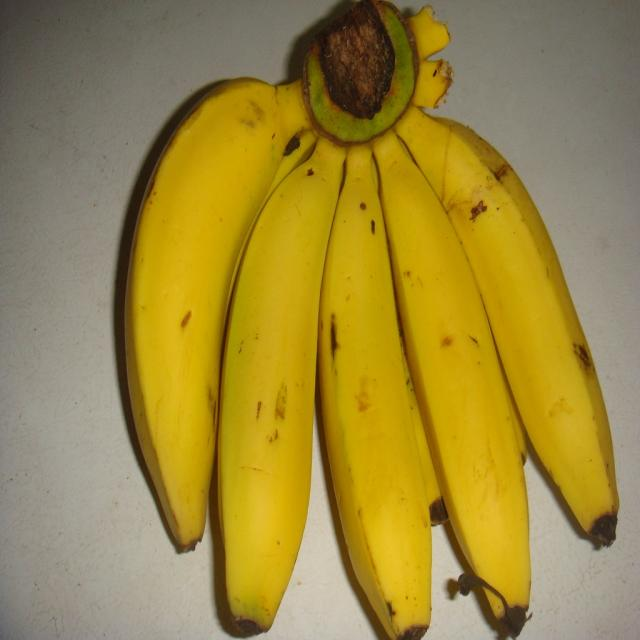Quả chuối: (123, 0, 619, 638)
